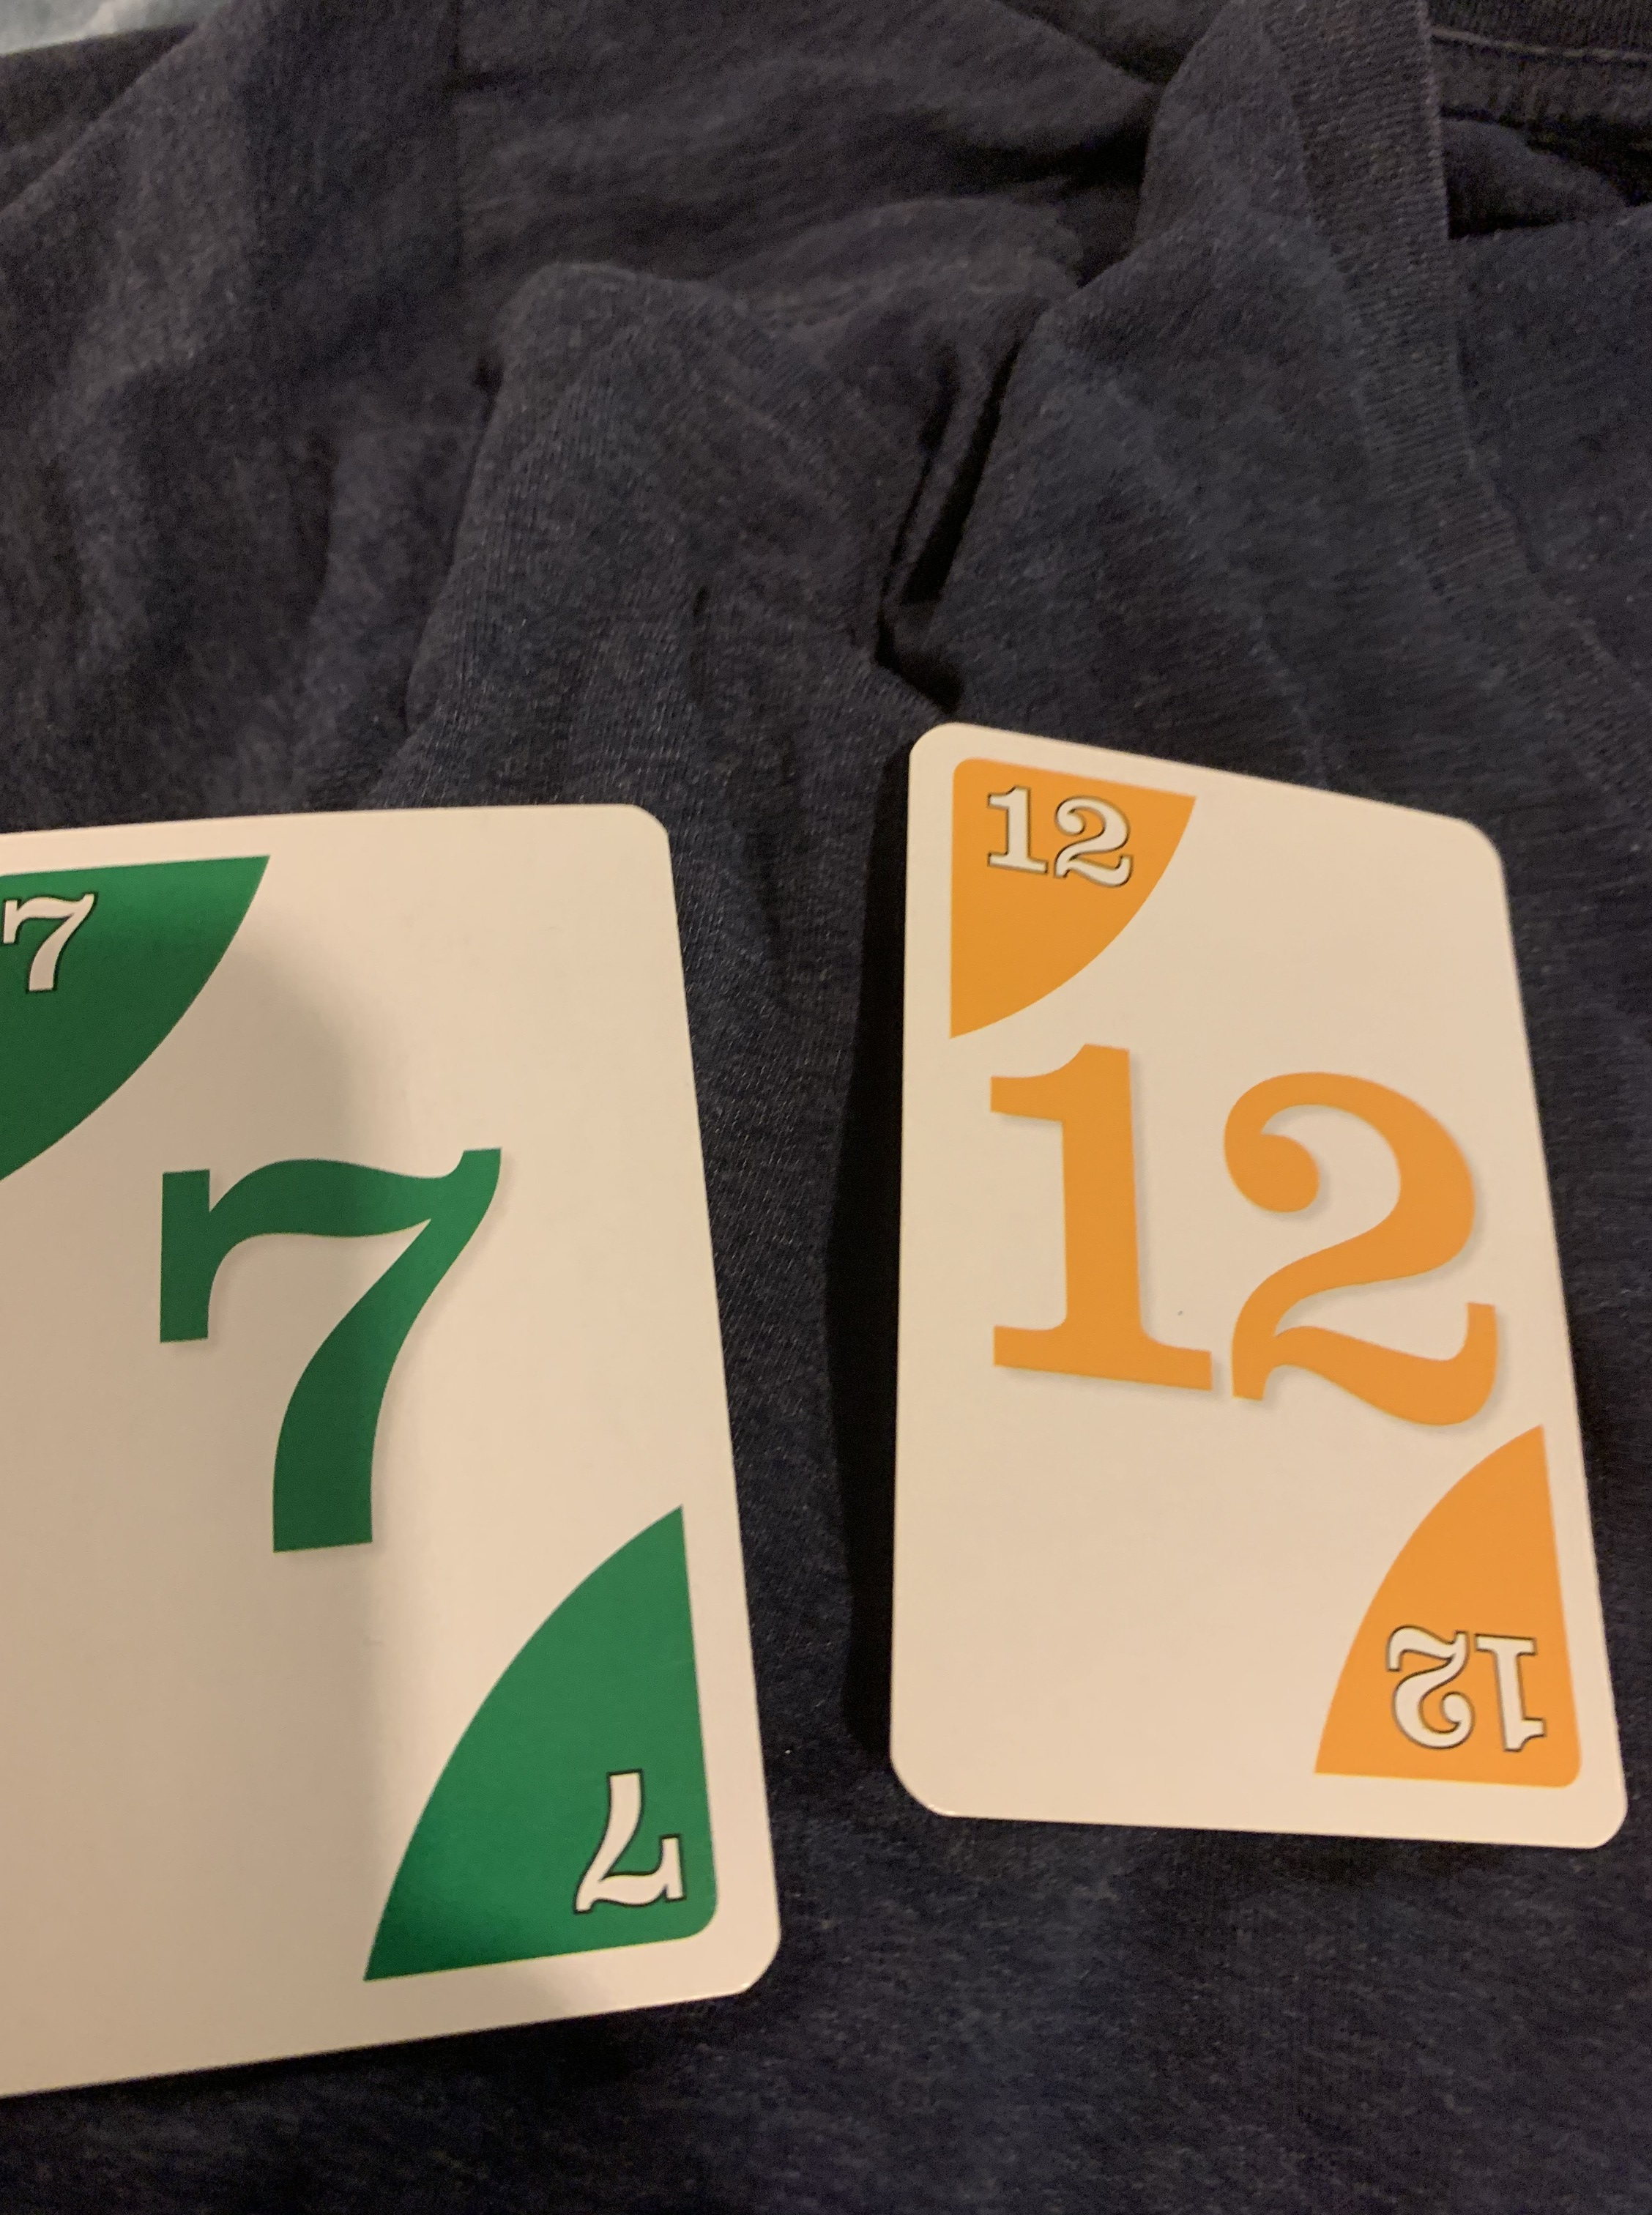seven: (0, 745, 800, 2132)
two: (840, 708, 1645, 1875)
